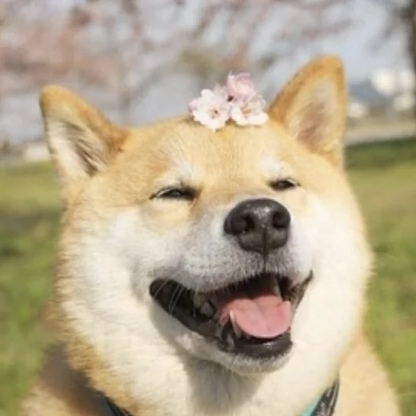shiba: (17, 49, 402, 416)
